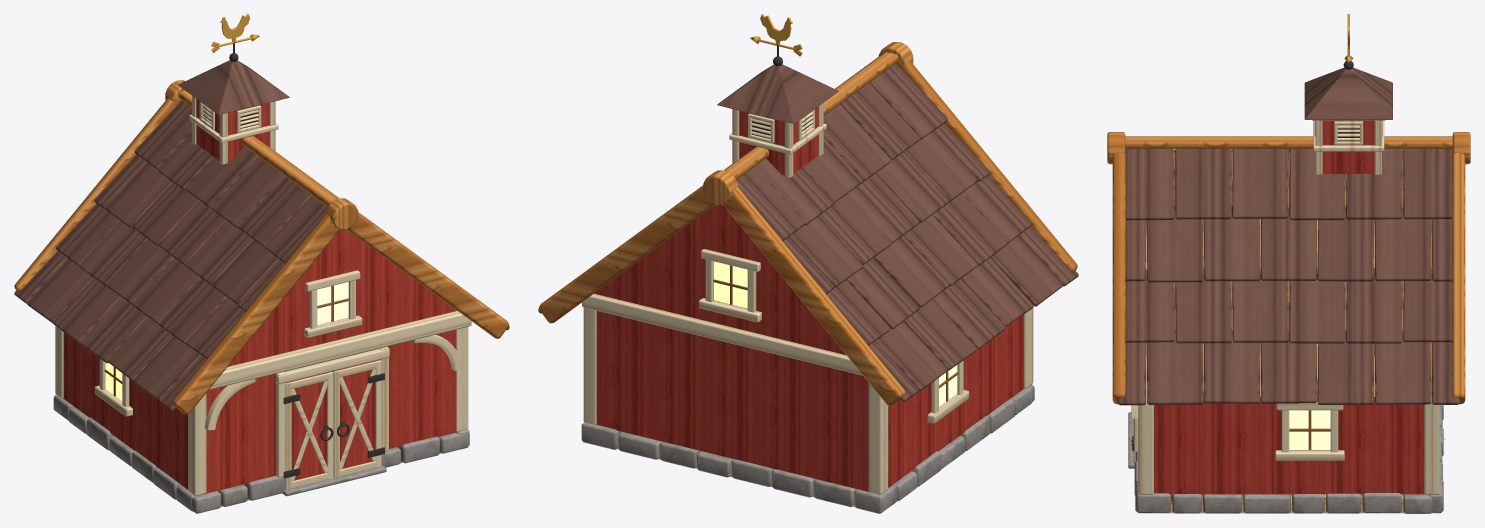
Rendered from barn.glb.
3 views of the same model, side by side, from view 1: azimuth 30°, elevation 25°; view 2: azimuth 150°, elevation 25°; view 3: azimuth 270°, elevation 25° (orthographic). The views are drawn at different scales.
Parts seen in each view (by area): view 1: roof, wall_front, wall_left, base, door_r, door_l, wall_front_low, wall_right, wall_left_low; view 2: roof, wall_back, wall_left, base, wall_left_low, wall_back_low, wall_right; view 3: roof, wall_right, base, wall_right_low.
Part boxes in pixels (bbox=[...]): roof: bbox=[14, 14, 509, 414]; wall_front: bbox=[204, 230, 471, 491]; wall_left: bbox=[55, 326, 206, 495]; base: bbox=[53, 394, 469, 513]; door_r: bbox=[332, 359, 384, 477]; door_l: bbox=[283, 371, 333, 489]; wall_front_low: bbox=[206, 419, 456, 493]; wall_right: bbox=[456, 327, 468, 432]; wall_left_low: bbox=[55, 383, 206, 495]; roof: bbox=[538, 14, 1078, 405]; wall_back: bbox=[582, 204, 869, 492]; wall_left: bbox=[868, 308, 1033, 494]; base: bbox=[581, 384, 1034, 513]; wall_left_low: bbox=[868, 371, 1033, 493]; wall_back_low: bbox=[596, 411, 839, 483]; wall_right: bbox=[583, 307, 596, 424]; roof: bbox=[1107, 14, 1470, 405]; wall_right: bbox=[1138, 396, 1439, 494]; base: bbox=[1128, 405, 1445, 513]; wall_right_low: bbox=[1138, 479, 1437, 494].
Size of the model in its own units: 7.04 by 7.86 by 6.08.
Materials: 17 (10 with a texture image).
